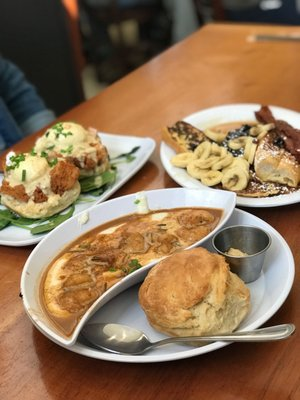sushi: (20, 189, 287, 356), (211, 225, 271, 284)
